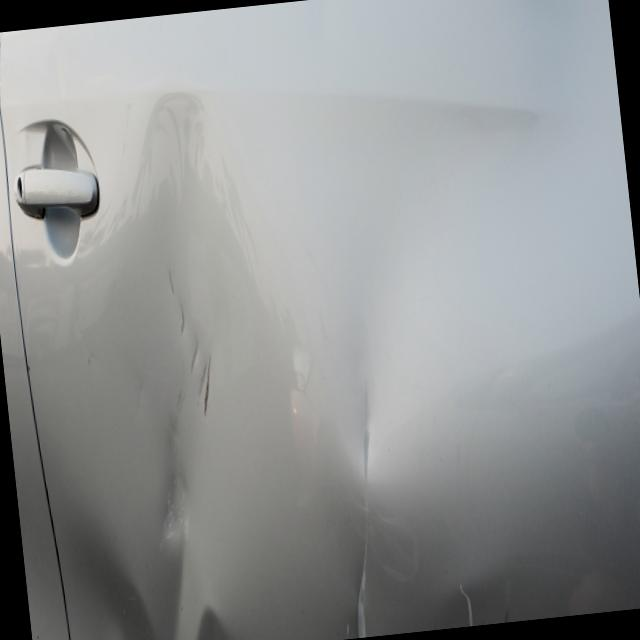Cabossage: (60, 477, 249, 640), (113, 67, 227, 255)
Rayure: (313, 359, 404, 639), (145, 240, 229, 446), (454, 567, 524, 627)
